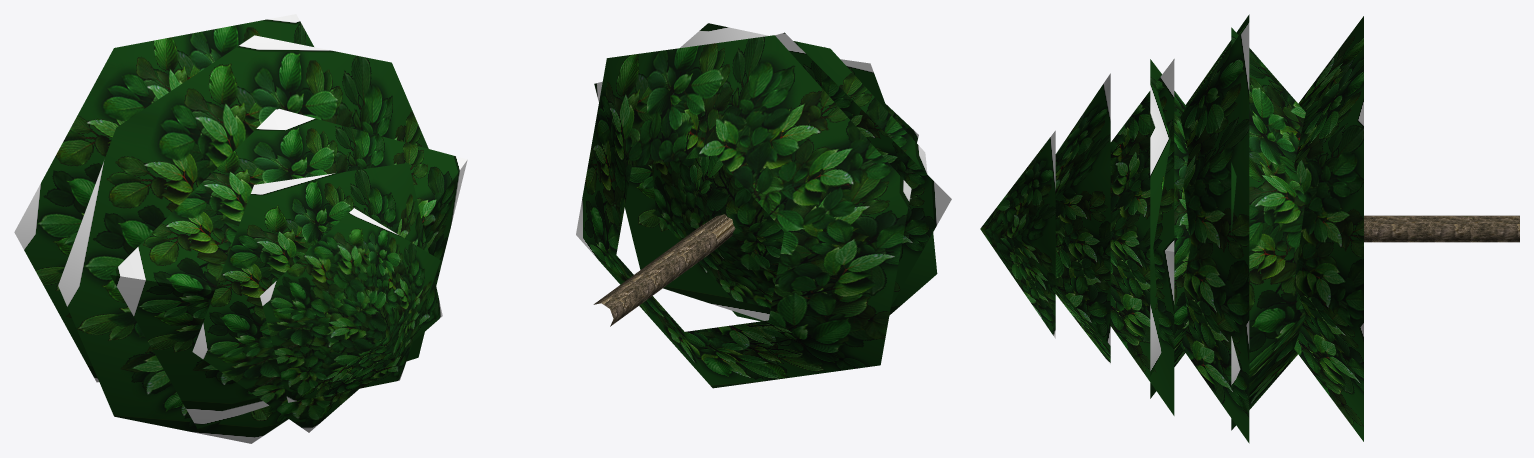
File: xss_x10.gltf
3 views of the same model, side by side, from view 1: azimuth 30°, elevation 25°; view 2: azimuth 150°, elevation 25°; view 3: azimuth 270°, elevation 25° (orthographic).
Visible parts, largest first — view 1: huitugou_2195_113; view 2: huitugou_2195_113; view 3: huitugou_2195_113.
Boxes of the visible parts, box(x1,y1,x2,y2) form: huitugou_2195_113: box(14, 14, 467, 443); huitugou_2195_113: box(576, 23, 951, 388); huitugou_2195_113: box(980, 14, 1519, 443).
Size of the model in its own units: 15.93 by 15.93 by 18.84.
2 materials, 2 textured.
